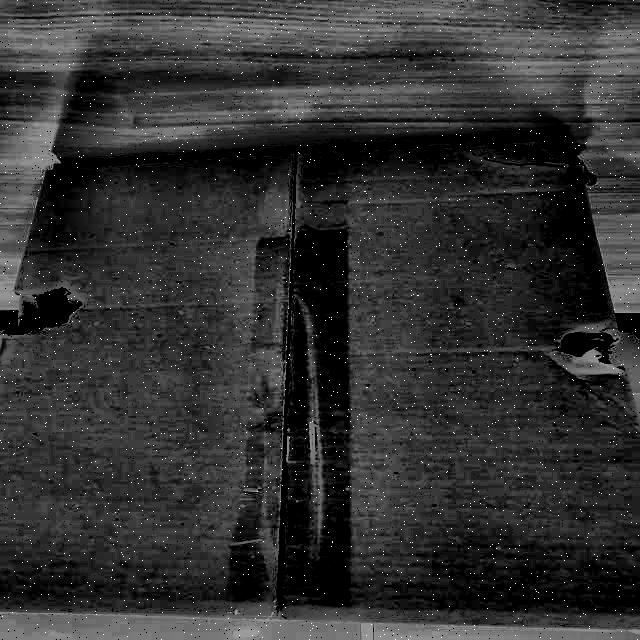box: (1, 122, 640, 633)
hole: (537, 312, 624, 380), (1, 292, 93, 344), (530, 135, 590, 183)
